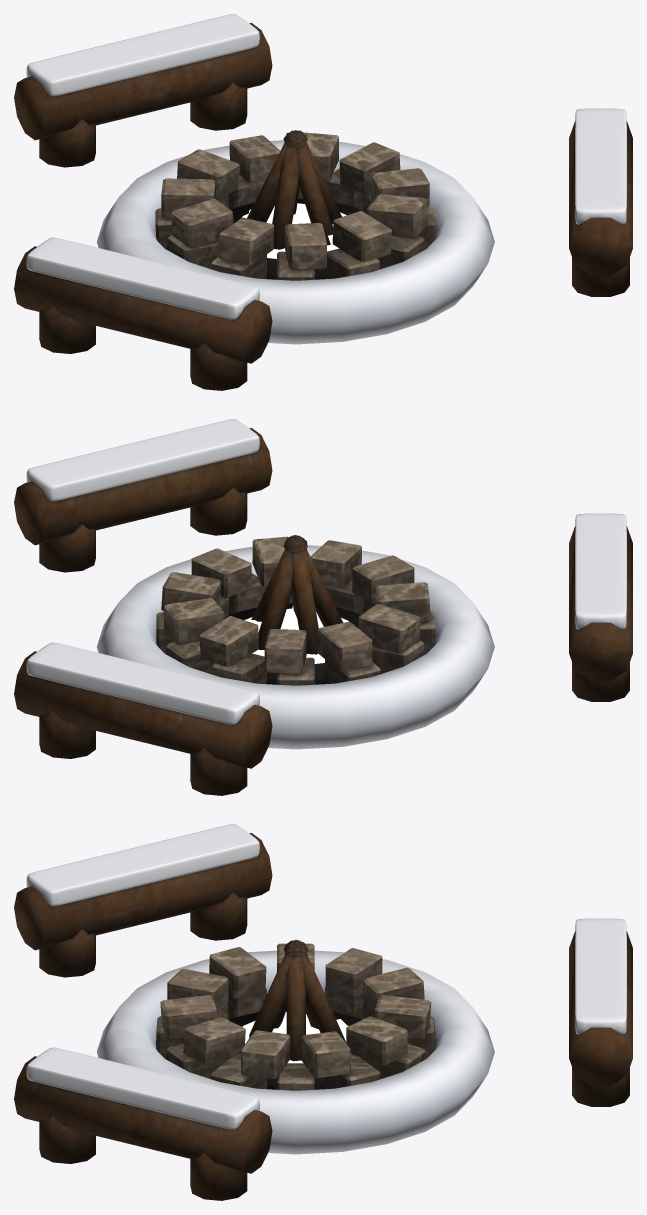
File: fire_pit.glb
3 renders of one model, top to bottom at view 1: azimuth 30°, elevation 25°; view 2: azimuth 150°, elevation 25°; view 3: azimuth 270°, elevation 25°, orthographic.
Visible parts, largest first — view 1: fire_pit, fire_pit_snow, fire_pit_lamp; view 2: fire_pit, fire_pit_snow, fire_pit_lamp; view 3: fire_pit, fire_pit_snow, fire_pit_lamp.
Part boxes in pixels (box(x1,y1,x2,y2)): fire_pit: box(14, 23, 632, 390); fire_pit_snow: box(26, 14, 626, 344); fire_pit_lamp: box(242, 203, 346, 258); fire_pit: box(14, 428, 632, 795); fire_pit_snow: box(26, 419, 626, 749); fire_pit_lamp: box(245, 606, 348, 663); fire_pit: box(14, 833, 632, 1200); fire_pit_snow: box(26, 824, 626, 1154); fire_pit_lamp: box(242, 1012, 350, 1063).
Size of the model in its own units: 4.92 by 1.19 by 4.26.
3 materials, 1 textured.
